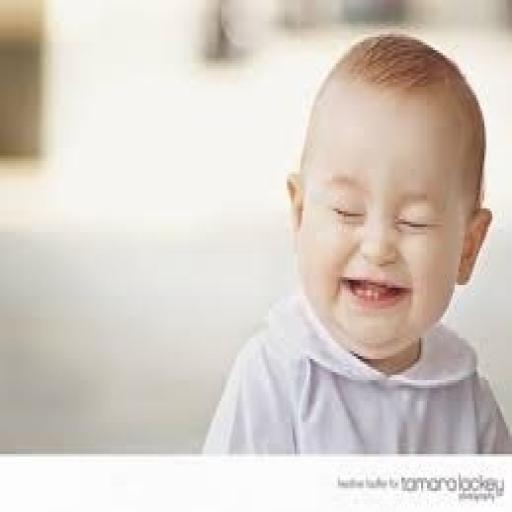laughing: (198, 26, 510, 452)
